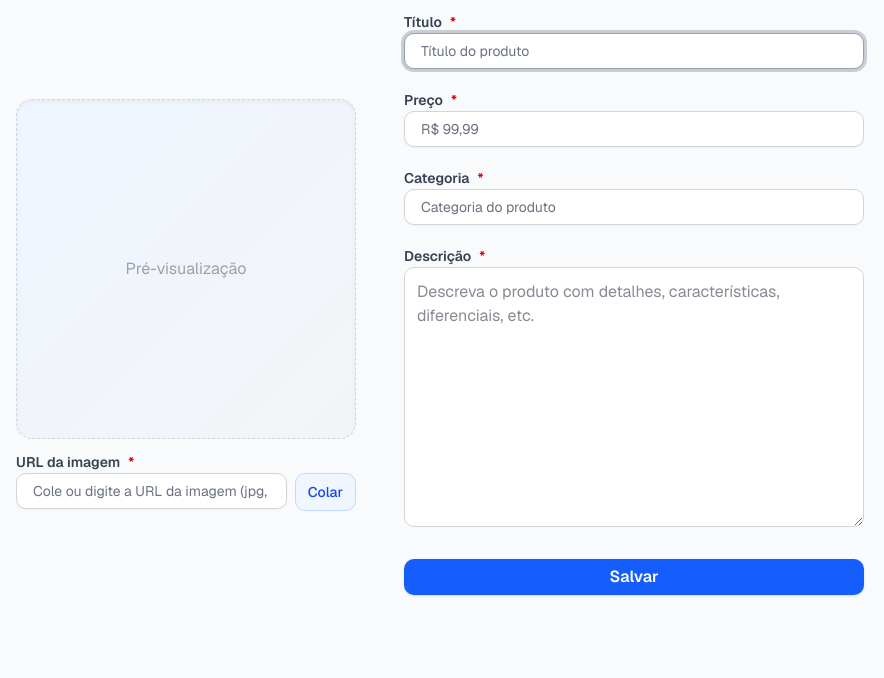
it: ProductForm integração › valida campos obrigatórios
The width and height of the screenshot is (884, 678).
Click the button "Salvar": (634, 577) left=404, top=559, right=864, bottom=595
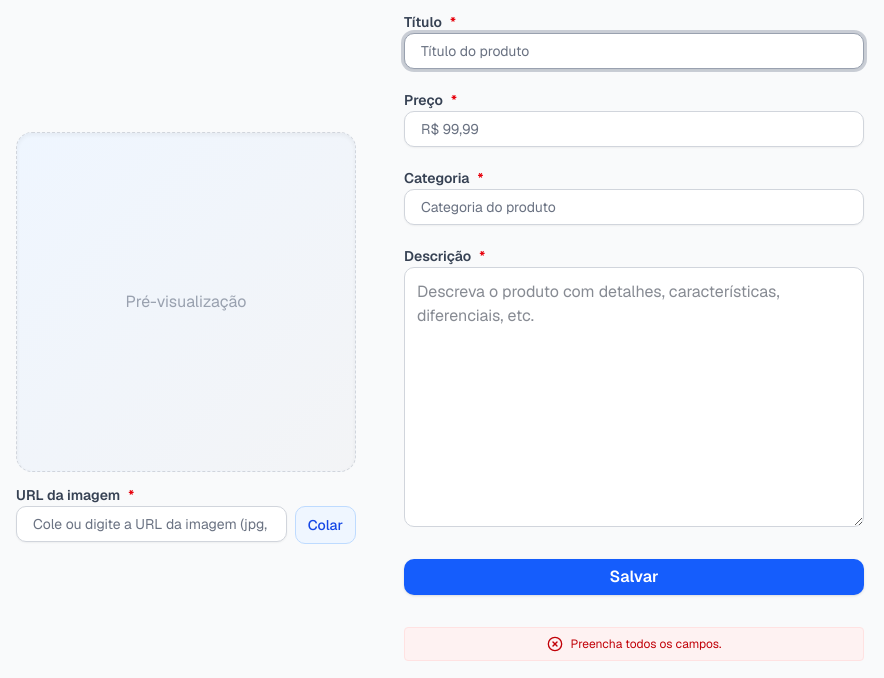
Check: the text "Preencha todos os campos." is shown, box left=404, top=627, right=864, bottom=661
